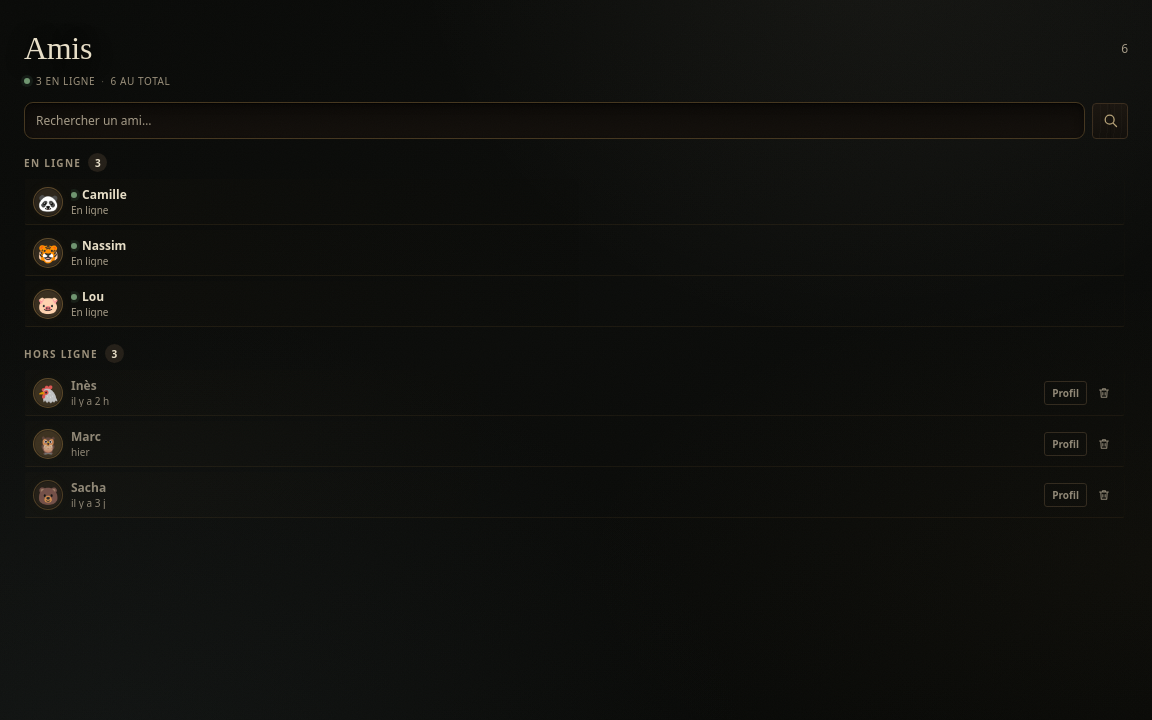
Test case: FriendsSidebar › retire un ami depuis sa ligne
This screenshot has width=1152, height=720.
Click the button named "Retirer Inès de mes amis": point(1104, 393) [1091, 380, 1116, 406]
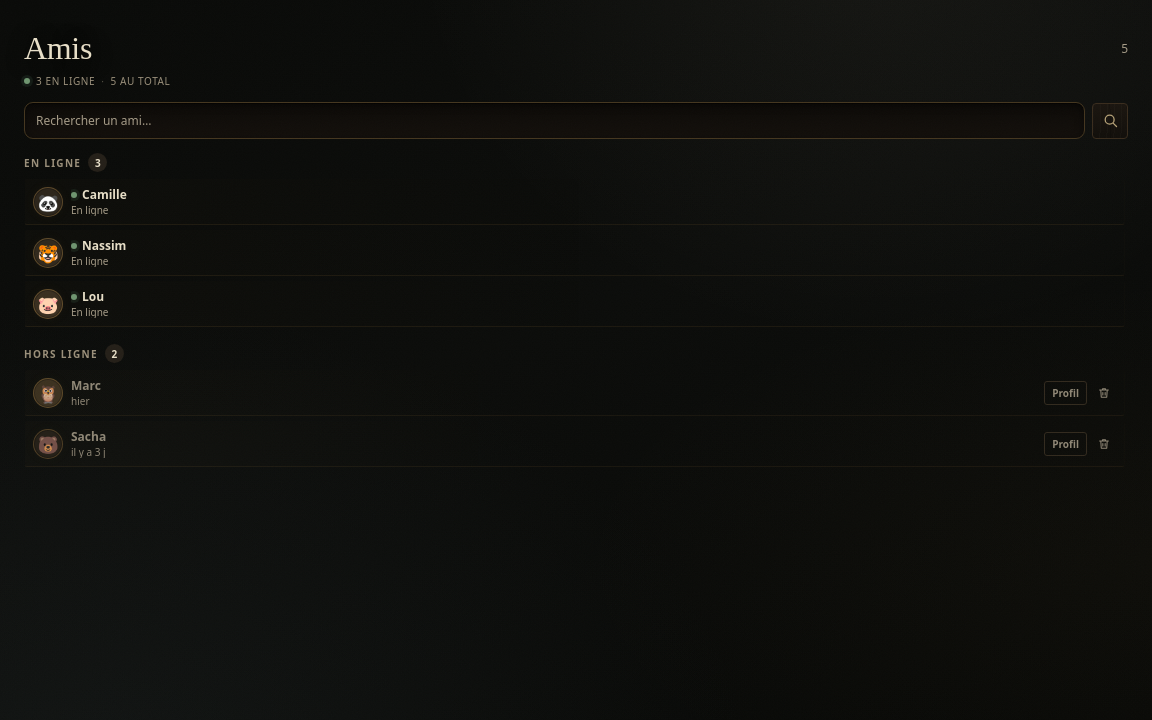
Expected: the text "Inès" is gone
Expected: the element with id "friends-offline-title" shows "2", [112, 346, 117, 360]
